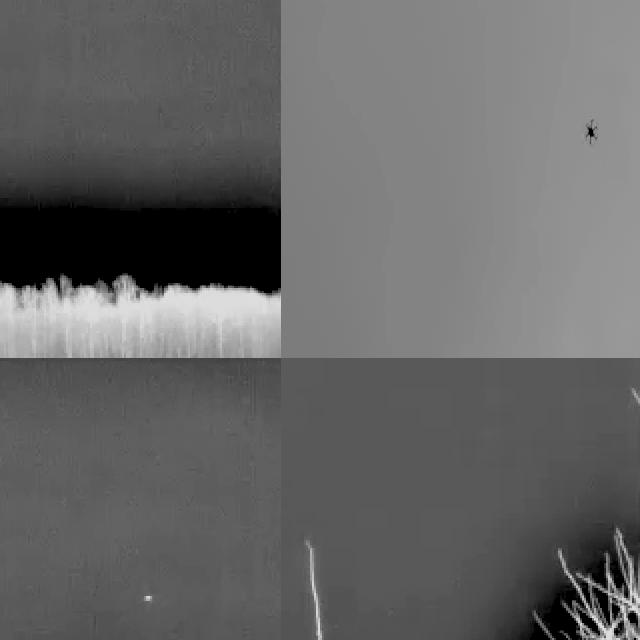0: (306, 625, 324, 640)
1: (132, 588, 156, 614)
drone: (580, 112, 605, 147)
